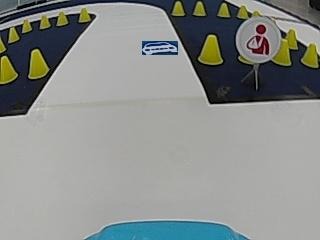cone: (198, 34, 222, 65), (27, 49, 48, 79), (272, 38, 290, 66), (0, 54, 17, 83), (301, 43, 318, 68), (171, 1, 185, 15), (8, 26, 20, 42), (193, 2, 206, 16), (217, 3, 230, 17), (56, 11, 69, 25), (78, 7, 90, 22), (236, 5, 249, 18), (39, 14, 50, 29), (22, 18, 32, 32)
patient: (240, 16, 280, 58)
